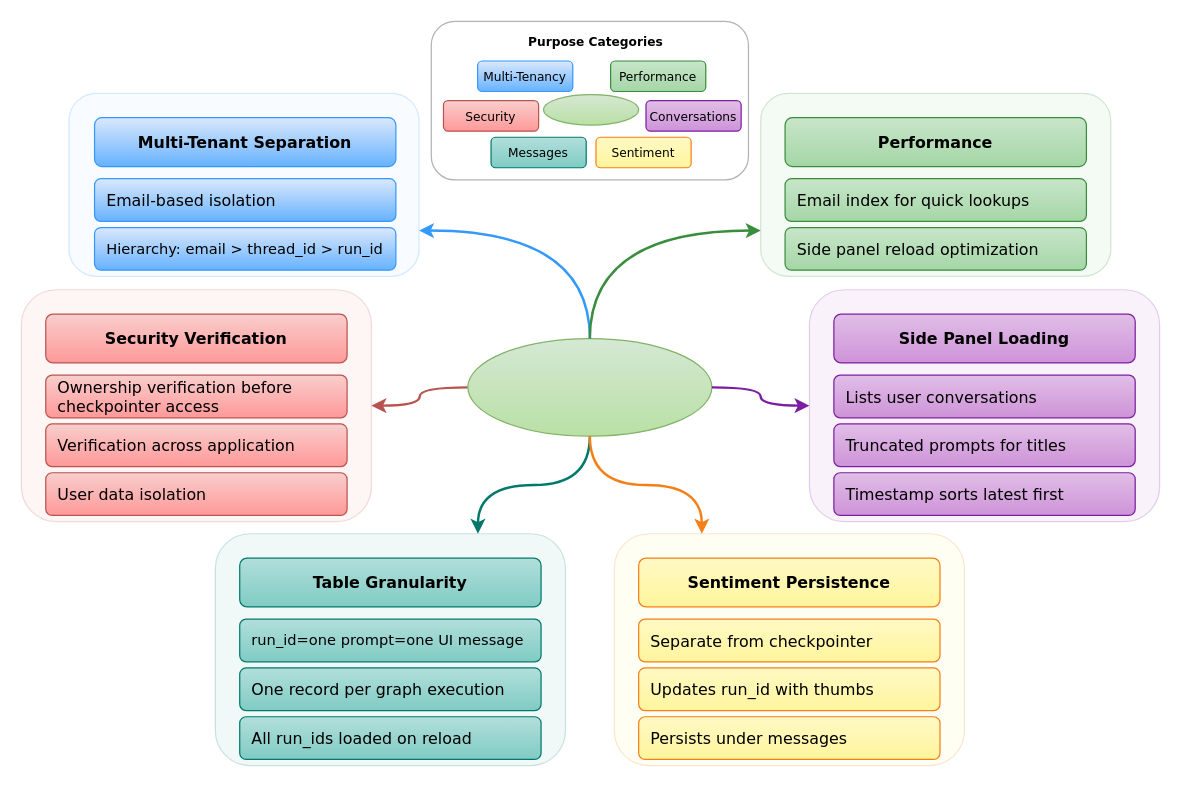
Image size: 1181x787. Some labels were removed from this diagram. Here are the shapes that lost their labels. From the top down, the centre of each, then its label:
(x=590, y=109): Table
(x=589, y=386): users_threads_runs
